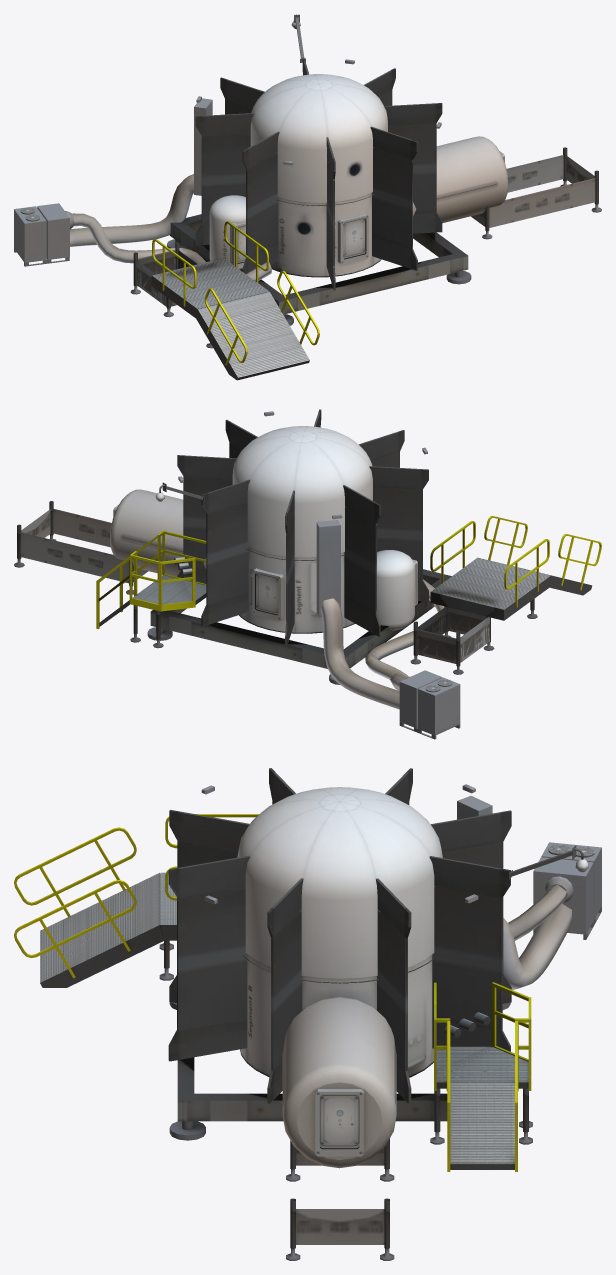
The model's file is hdu.glb.
3 views of the same model, one above another, from view 1: azimuth 30°, elevation 25°; view 2: azimuth 150°, elevation 25°; view 3: azimuth 270°, elevation 25° (orthographic). The views are drawn at different scales.
Visible parts, largest first — view 1: HDU_lowRez_part2, HDU_lowRez_part1; view 2: HDU_lowRez_part2, HDU_lowRez_part1; view 3: HDU_lowRez_part2, HDU_lowRez_part1.
Part boxes in pixels (box(x1,y1,x2,y2)): HDU_lowRez_part2: box(14, 14, 601, 380); HDU_lowRez_part1: box(209, 74, 508, 277); HDU_lowRez_part2: box(14, 409, 601, 739); HDU_lowRez_part1: box(110, 426, 417, 633); HDU_lowRez_part2: box(14, 768, 601, 1260); HDU_lowRez_part1: box(237, 787, 442, 1168).
Bounding box in the file's own units: 16.67 × 5.83 × 11.65.
Materials: 2 (2 with a texture image).
